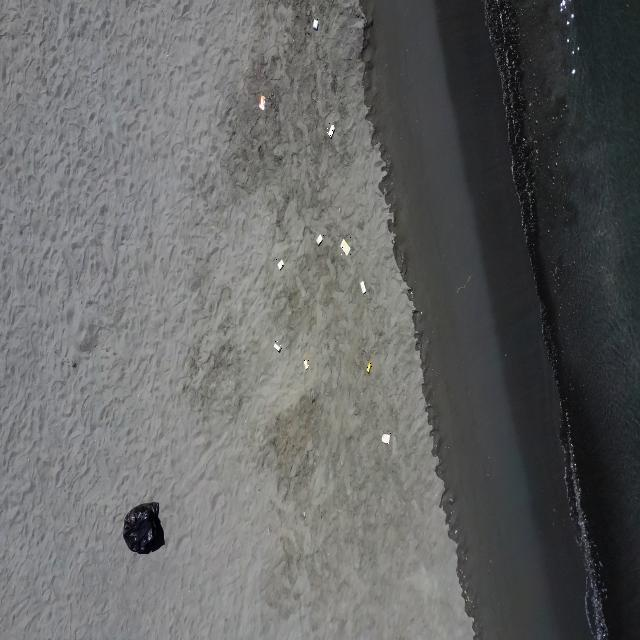retort-pouch: (340, 237, 352, 256), (276, 257, 285, 273), (327, 123, 336, 139), (380, 432, 391, 445), (258, 94, 266, 111), (315, 233, 324, 248), (312, 17, 320, 31), (274, 341, 282, 354), (358, 281, 366, 294), (366, 362, 372, 376), (303, 358, 309, 371)
